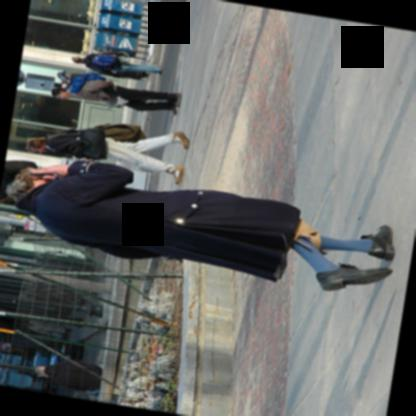backpack: (85, 53, 121, 70)
handbag: (47, 126, 103, 160)
suitcase: (114, 69, 149, 78)
